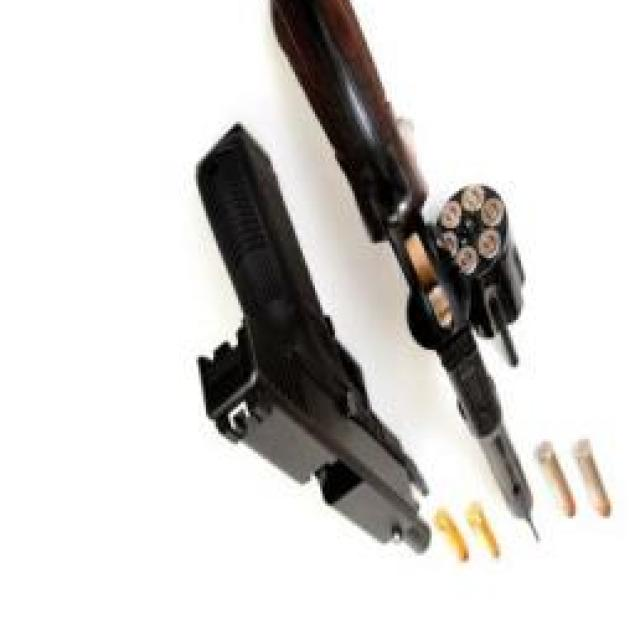pistol: (271, 0, 544, 544), (195, 122, 434, 556)
